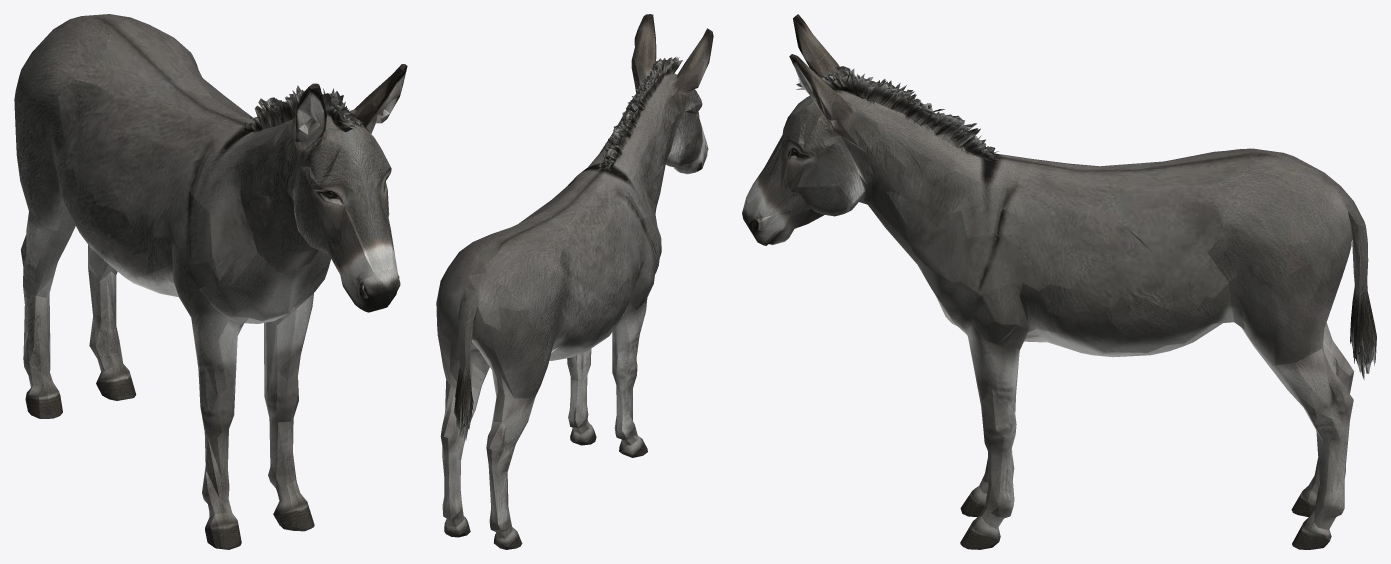
File: donkey.glb
3 renders of one model, left to right at view 1: azimuth 30°, elevation 25°; view 2: azimuth 150°, elevation 25°; view 3: azimuth 270°, elevation 25°, orthographic. The views are drawn at different scales.
Bounding box in the file's own units: 0.5579 × 1.63 × 1.9.
Materials: 1 (1 with a texture image).
